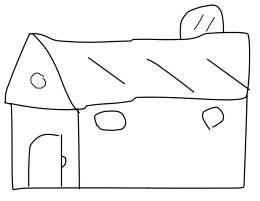big_house: (1, 3, 256, 199)
chimney: (175, 1, 229, 42)
door: (19, 121, 72, 193)
open_window: (91, 106, 133, 135), (196, 104, 229, 135)
roof: (2, 29, 252, 112)
wall: (75, 90, 248, 192)
